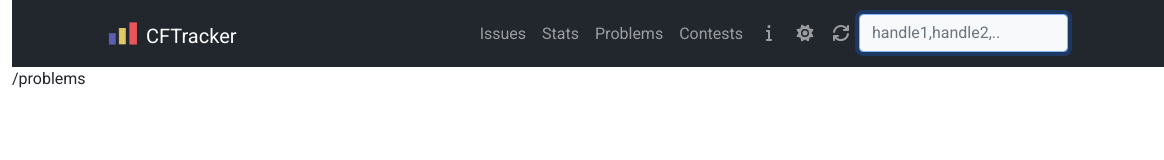
Test case: the Issues menu link navigates to /comments
Click the link "Issues". click: (503, 33)
box: [480,24,526,43]
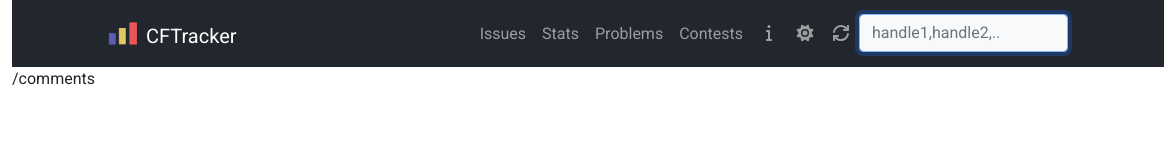
Check: the text with test id "location" reads "/comments", box [12,69,95,88]
